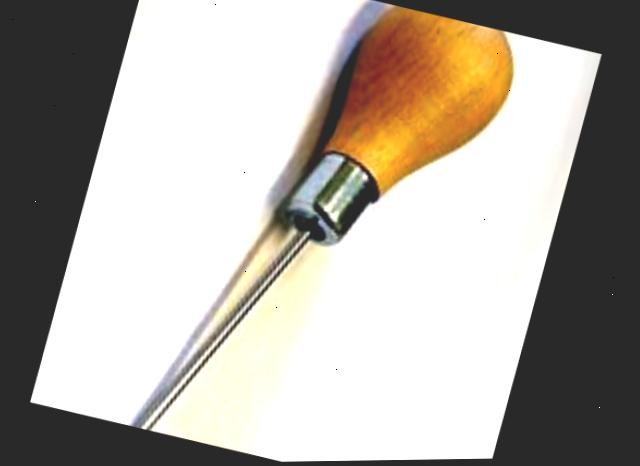ice pick: (97, 0, 525, 465)
